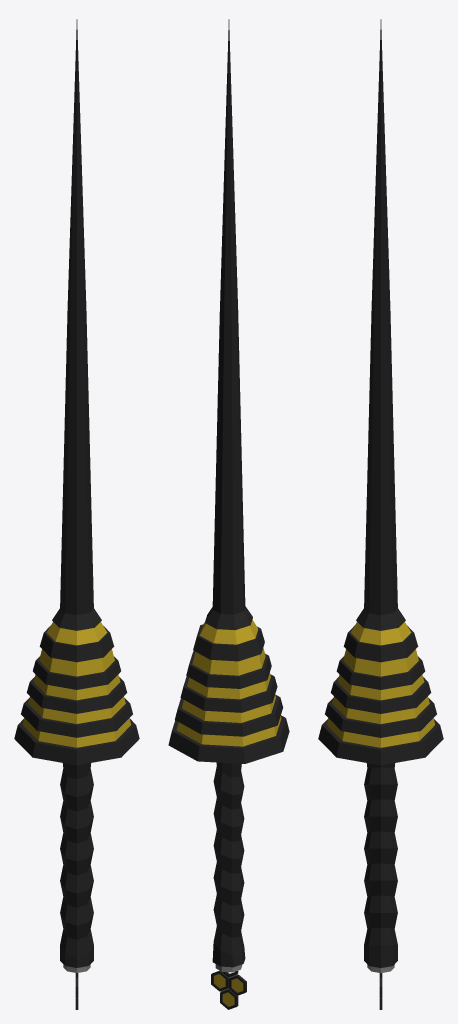
The model's file is bee_sword.fbx.
3 renders of one model, left to right at view 1: azimuth 90°, elevation 25°; view 2: azimuth 150°, elevation 25°; view 3: azimuth 270°, elevation 25°, orthographic.
Visible parts, largest first — view 1: bee_sword; view 2: bee_sword; view 3: bee_sword.
Boxes of the visible parts, box(x1,y1,x2,y2) form: bee_sword: box(14, 19, 139, 1009); bee_sword: box(168, 19, 289, 1009); bee_sword: box(318, 19, 443, 1009).
Size of the model in its own units: 14.7 by 129 by 14.7.
